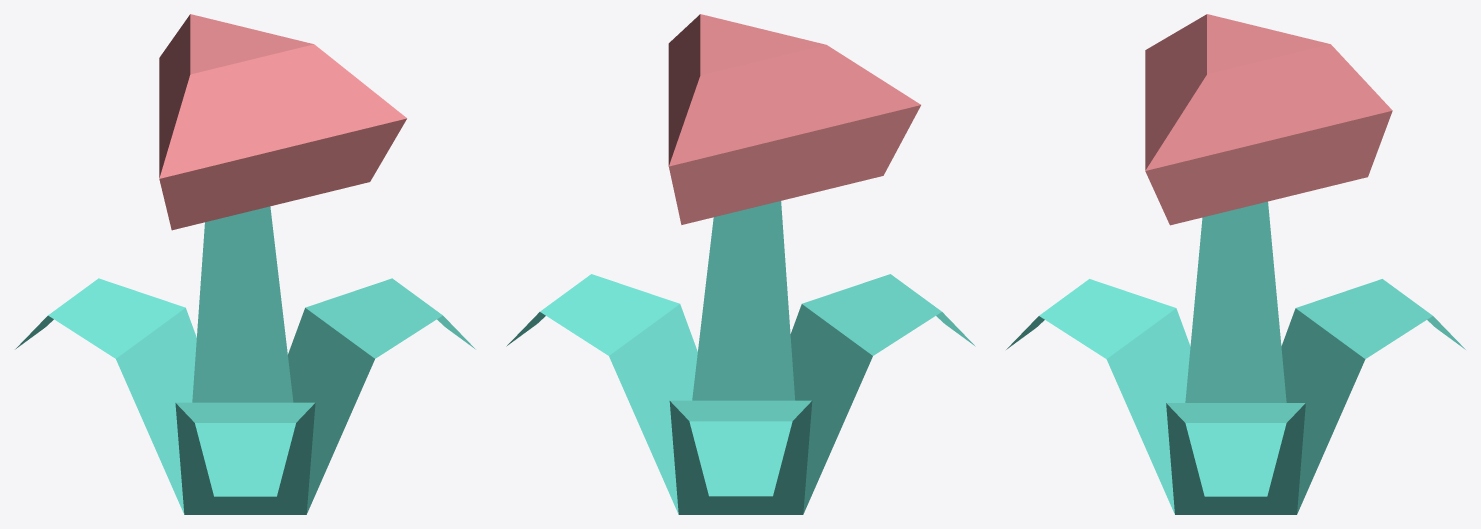
File: flower_redB.gltf
3 renders of one model, left to right at view 1: azimuth 30°, elevation 25°; view 2: azimuth 150°, elevation 25°; view 3: azimuth 270°, elevation 25°, orthographic. The views are drawn at different scales.
Parts seen in each view (by area): view 1: flower_redB; view 2: flower_redB; view 3: flower_redB.
Part boxes in pixels (left/top/right/bottom): flower_redB: left=15, top=14, right=475, bottom=514; flower_redB: left=506, top=14, right=975, bottom=514; flower_redB: left=1006, top=14, right=1465, bottom=514.
Bounding box in the file's own units: 0.2073 × 0.2585 × 0.2392.
